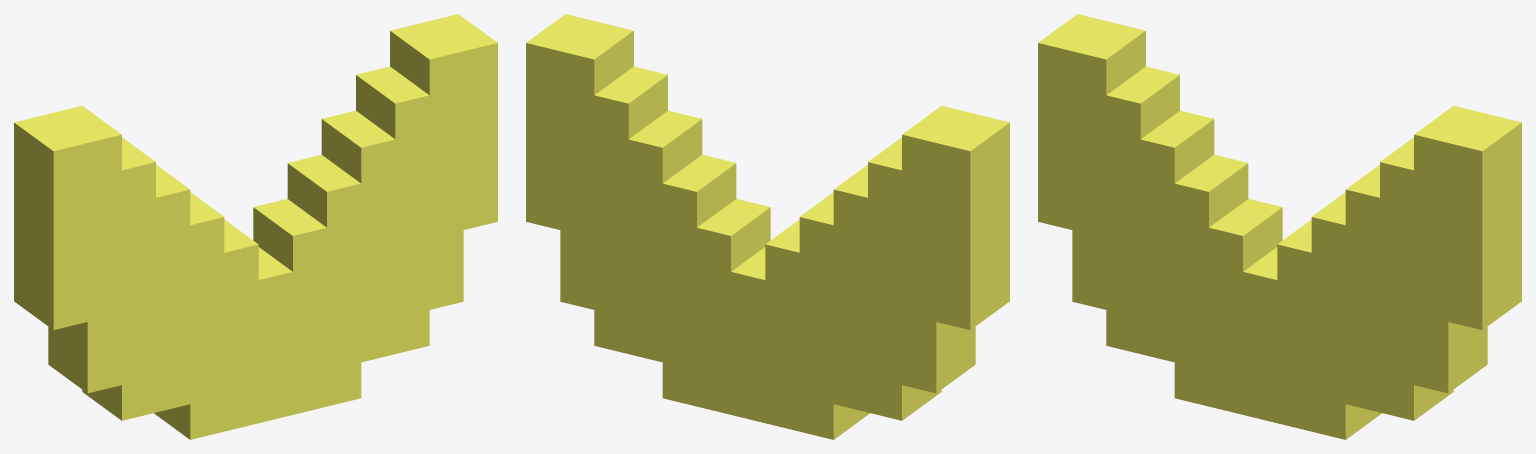
File: pacmand1.fbx
3 renders of one model, left to right at view 1: azimuth 30°, elevation 25°; view 2: azimuth 150°, elevation 25°; view 3: azimuth 330°, elevation 25°, orthographic.
Visible parts, largest first — view 1: pacmand1; view 2: pacmand1; view 3: pacmand1.
Part boxes in pixels (x1,y1,x2,y2): pacmand1: [14, 14, 497, 439]; pacmand1: [526, 14, 1009, 439]; pacmand1: [1038, 14, 1521, 439].
Size of the model in its own units: 130 by 90 by 20.
